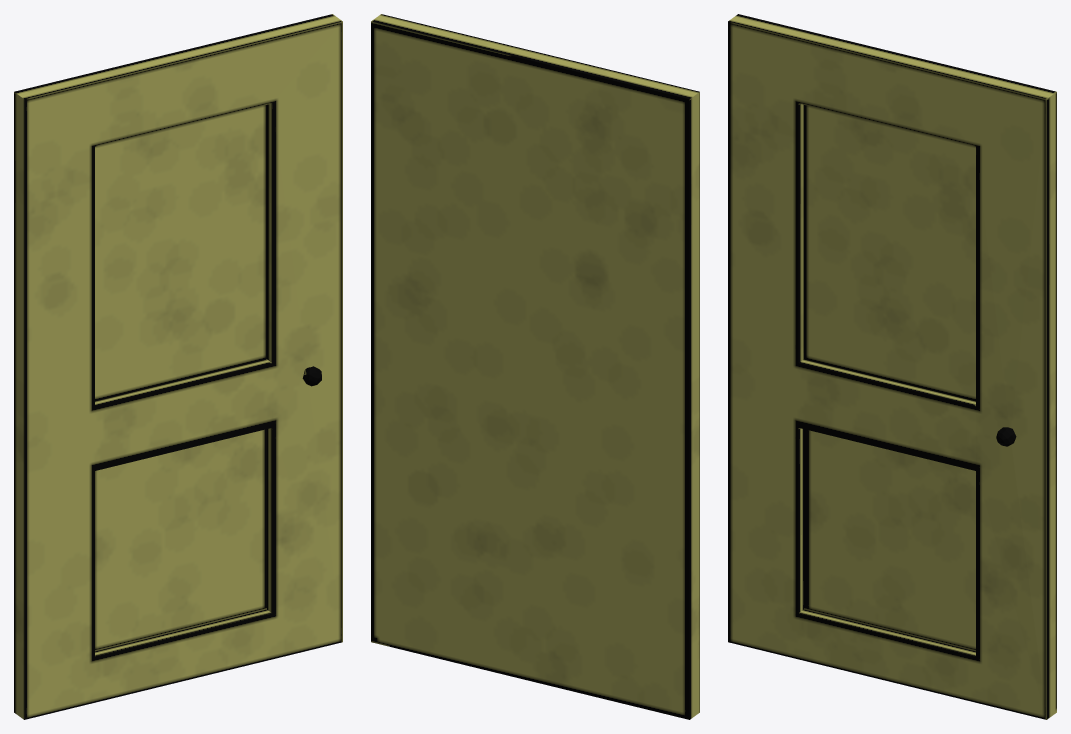
The model's file is door.fbx.
3 renders of one model, left to right at view 1: azimuth 30°, elevation 25°; view 2: azimuth 150°, elevation 25°; view 3: azimuth 330°, elevation 25°, orthographic.
Visible parts, largest first — view 1: obj_0; view 2: obj_0; view 3: obj_0.
Part boxes in pixels (x1,y1,x2,y2): obj_0: (14,14,342,719); obj_0: (371,14,699,719); obj_0: (728,14,1056,719).
Bounding box in the file's own units: 15.94 × 144 × 268.
Materials: 1 (1 with a texture image).
